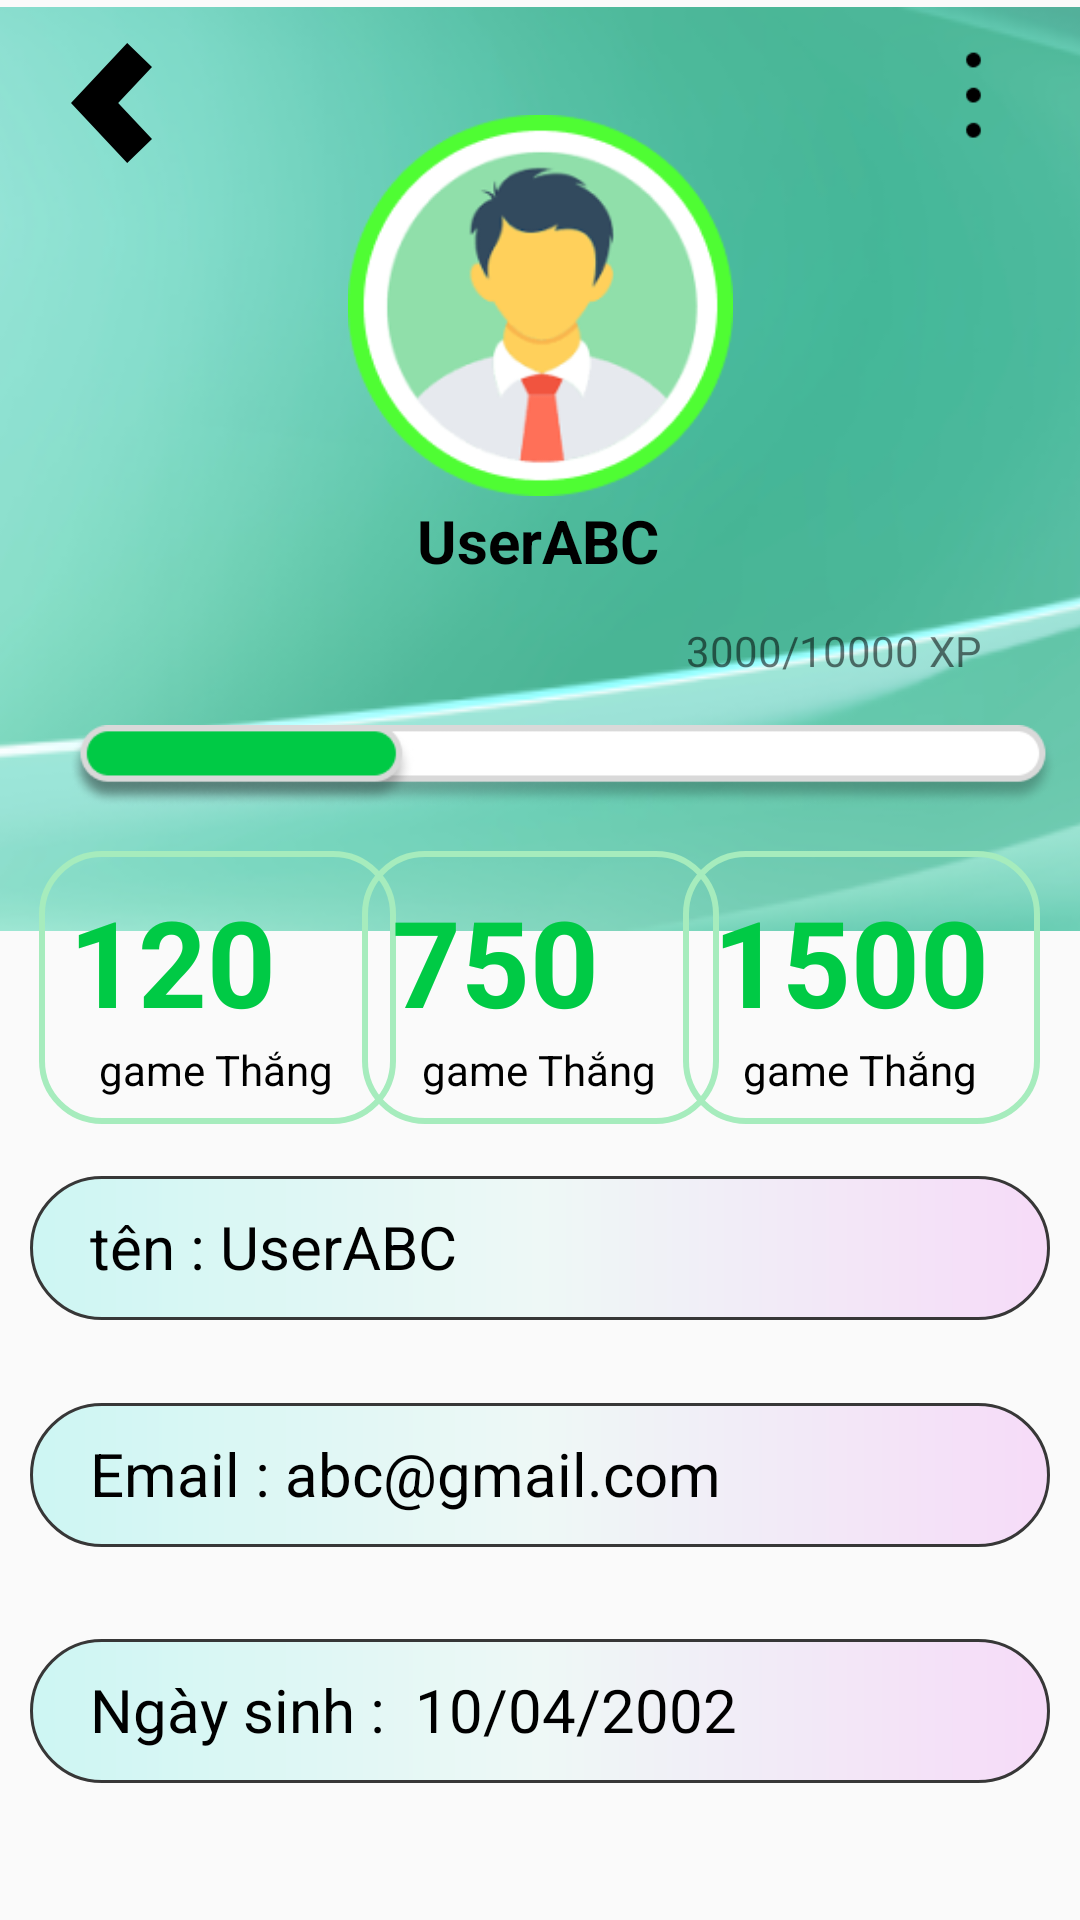

Screen size 1080*1920. Icon name, then its box in pixels as (x1, y1, x2, y2):
3cham: (966, 52, 981, 138)
back: (71, 43, 152, 163)
